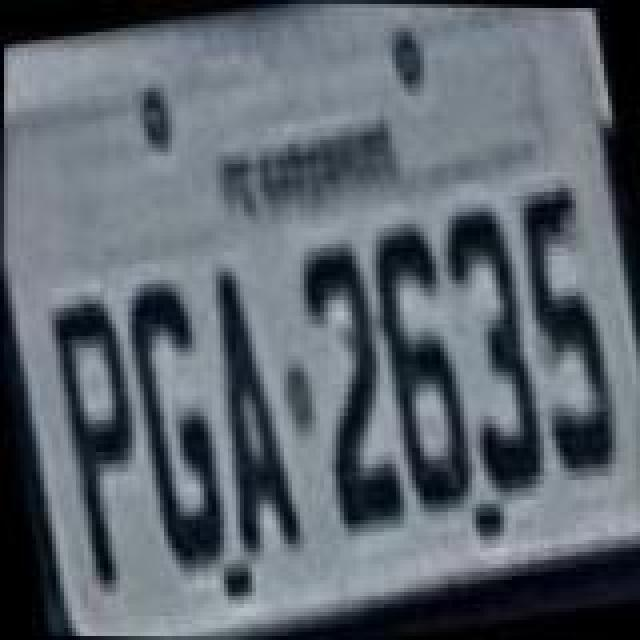2: (290, 232, 414, 540)
3: (438, 198, 558, 502)
5: (506, 180, 626, 484)
6: (362, 220, 482, 524)
A: (190, 260, 306, 564)
G: (116, 272, 236, 576)
P: (44, 294, 164, 594)
